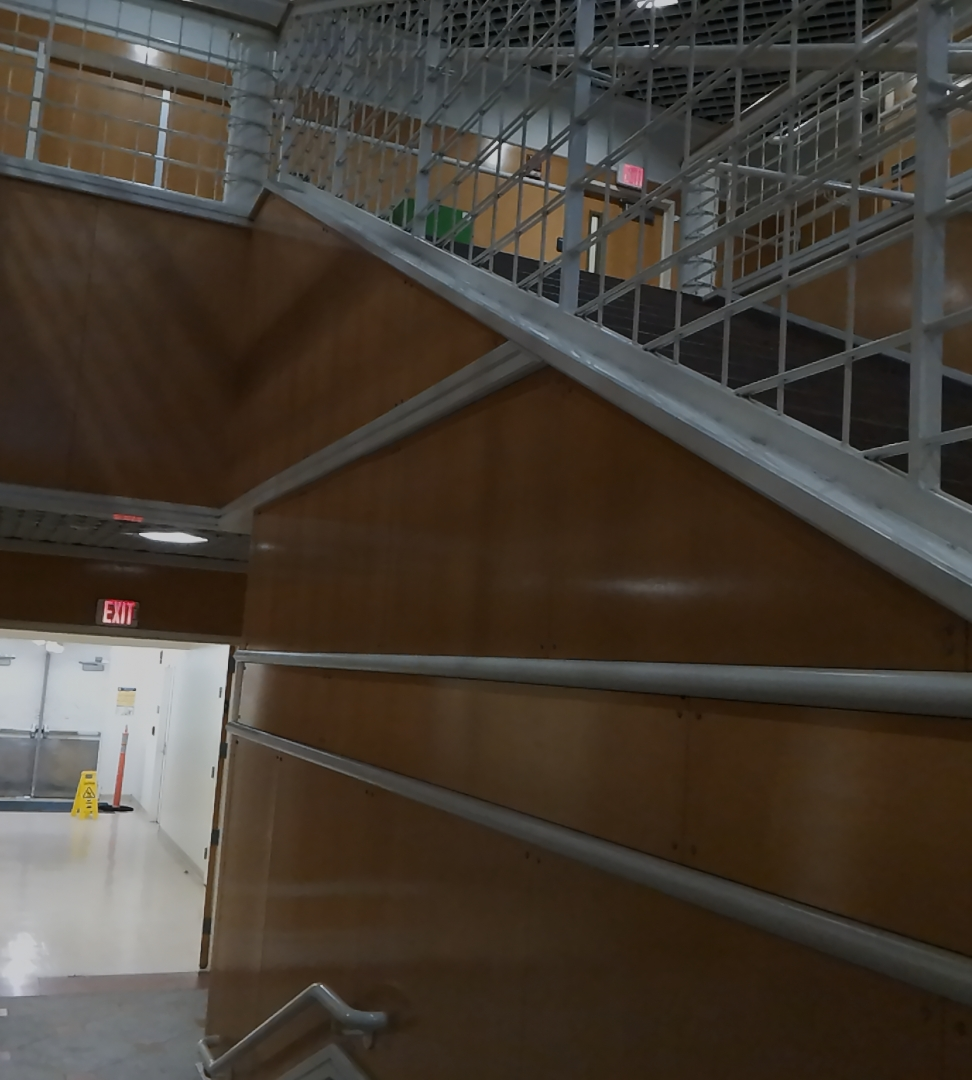emergency_exit: (95, 596, 140, 628), (615, 161, 645, 190)
